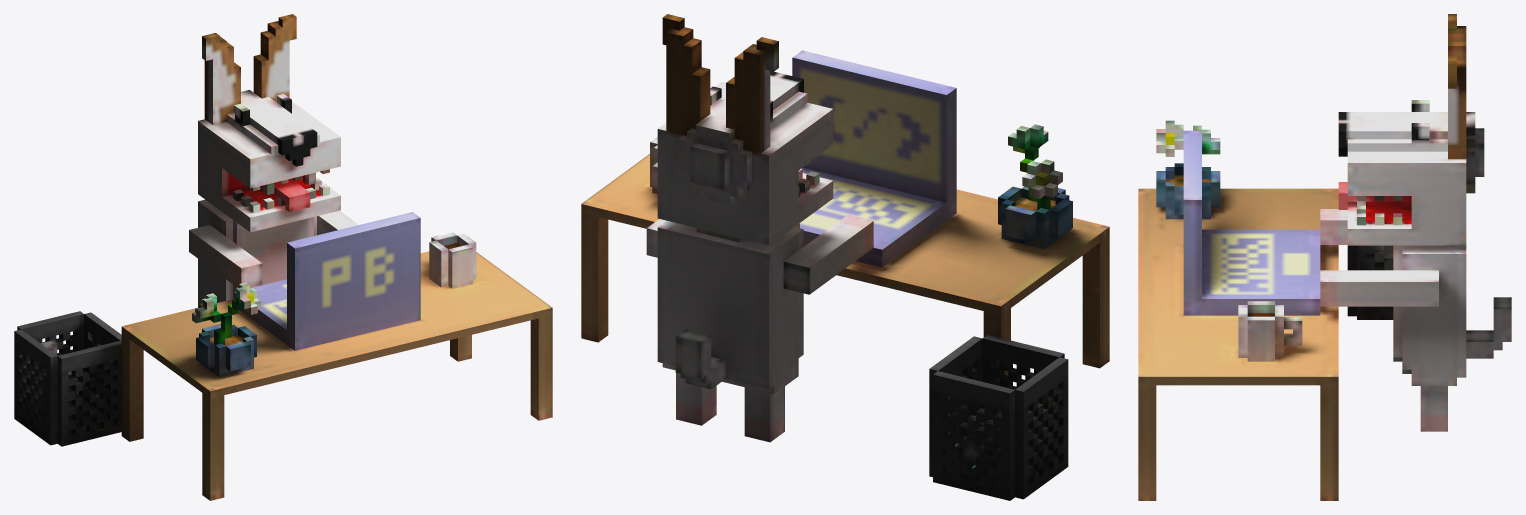
File: pb-vox-dog.glb
The picture shows the model from 3 angles, left to right: view 1: azimuth 30°, elevation 25°; view 2: azimuth 150°, elevation 25°; view 3: azimuth 270°, elevation 25°; orthographic projection. The views are drawn at different scales.
Parts seen in each view (by area): view 1: pb-voxel.vox; view 2: pb-voxel.vox; view 3: pb-voxel.vox.
Part boxes in pixels (x1,y1,x2,y2): pb-voxel.vox: [14, 14, 552, 500]; pb-voxel.vox: [581, 14, 1109, 500]; pb-voxel.vox: [1138, 14, 1511, 500].
Size of what is drawn, in the model's own units: 5.8 by 4.5 by 4.1.
Materials: 1 (1 with a texture image).
